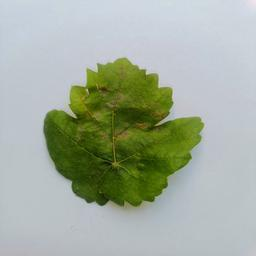Powdery-Mildew: (80, 103, 150, 148), (108, 88, 163, 119), (155, 125, 195, 163)
